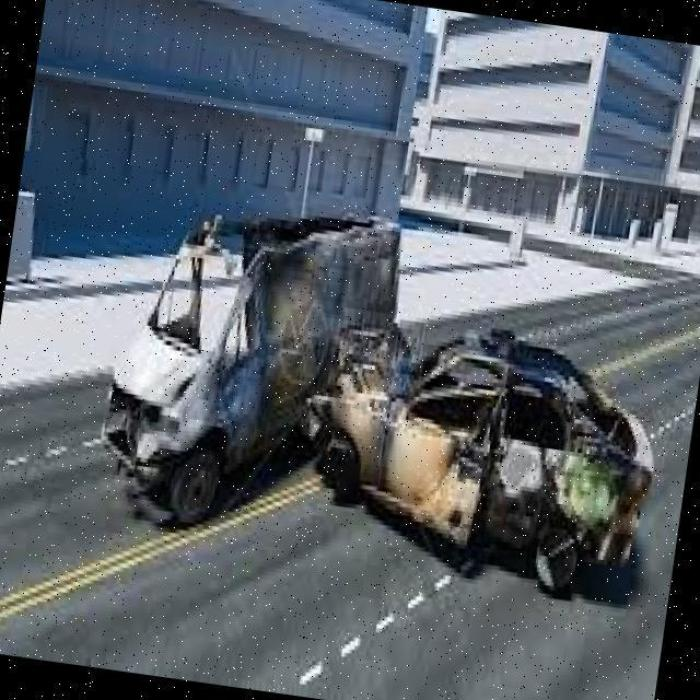Accident: (79, 161, 686, 618)
